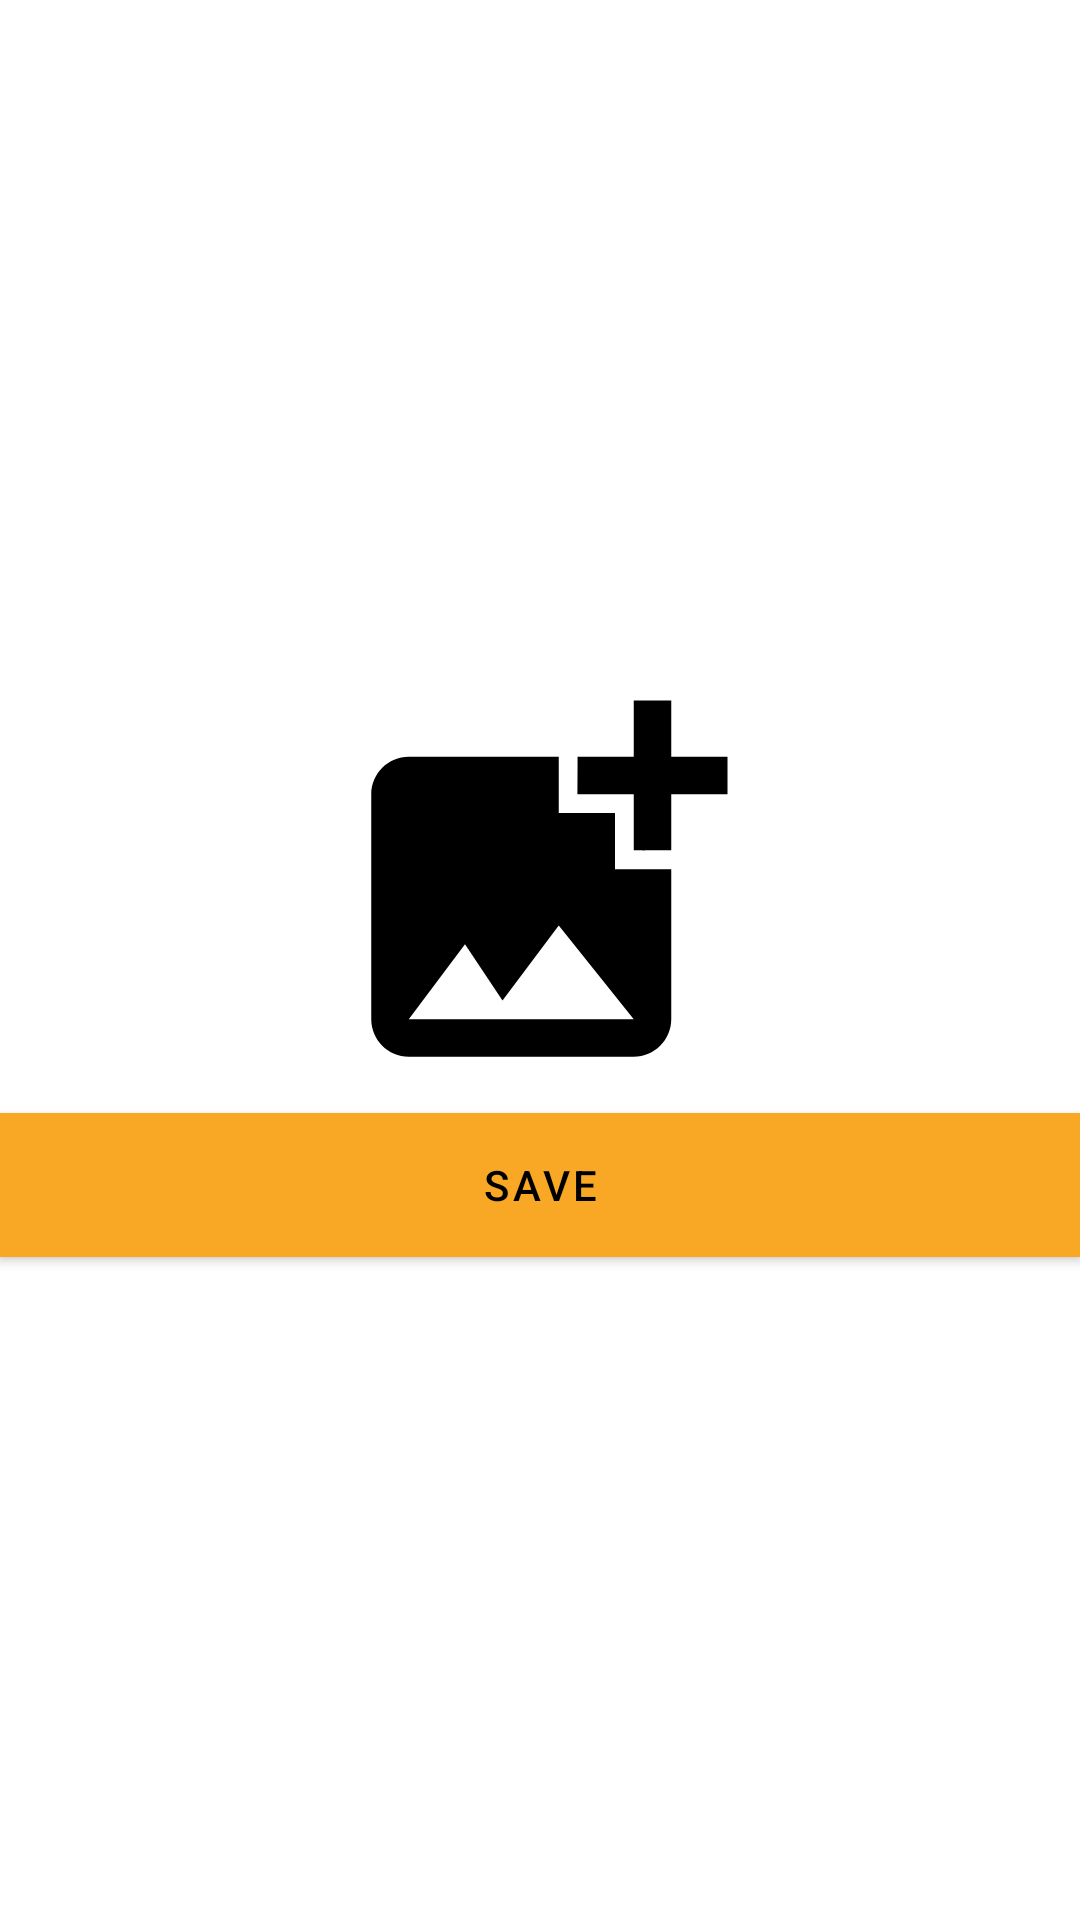

Point at icon controls on the screen. Image size 1080 × 1920, points as [x,y].
add photo alternate: [549,878]
